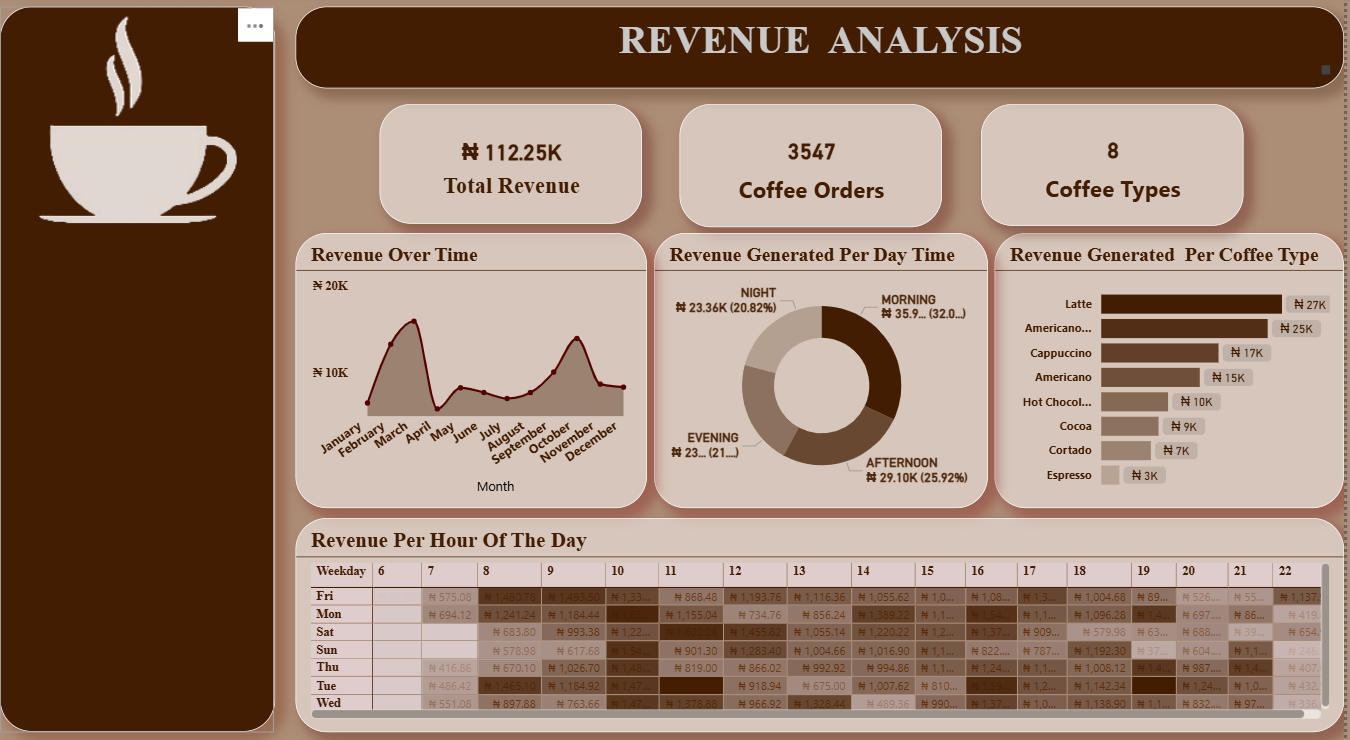

What the dashboard file says about the page in this screenshot:
{"tool":"powerbi","page":{"name":"Revenue Analysis","canvas":[1280,720],"ordinal":0},"visuals":[{"type":"textbox","box":[0,13.3,261.7,690.8],"z":0},{"type":"card","fields":{"Values":["Coffe_sales project.Total Revenue"]},"box":[361.1,106,250.1,114.3],"z":1000},{"type":"card","fields":{"Values":["CountNonNull(Coffe_sales project.coffee_name)"]},"box":[647.7,106,250.1,117.6],"z":2000},{"type":"clusteredBarChart","title":"Revenue Generated  Per Coffee Type","fields":{"Y":["Sum(Coffe_sales project.money)"],"Category":["Coffe_sales project.coffee_name"]},"box":[947.5,228.6,333,261.7],"z":3000},{"type":"donutChart","title":"Revenue Generated Per Day Time","fields":{"Category":["Coffe_sales project.Time of the Day"],"Y":["Sum(Coffe_sales project.money)"]},"box":[622.8,228.6,318,261.7],"z":4000},{"type":"areaChart","title":"Revenue Over Time","fields":{"Category":["Coffe_sales project.Date.Variation.Date Hierarchy.Year","Coffe_sales project.Date.Variation.Date Hierarchy.Month"],"Y":["Coffe_sales project.Total Revenue"]},"box":[281.6,228.6,334.6,261.7],"z":5000},{"type":"card","fields":{"Values":["Count(Coffe_sales project.coffee_name)"]},"box":[934.3,106,250.1,116],"z":6000},{"type":"pivotTable","title":"Revenue Per Hour Of The Day","fields":{"Rows":["Coffe_sales project.Weekday"],"Columns":["Coffe_sales project.hour_of_day"],"Values":["Sum(Coffe_sales project.money)"]},"box":[281.6,500.3,998.9,203.7],"z":7000},{"type":"textbox","title":"REVENUE  ANALYSIS","box":[281.6,13.3,998.9,77.9],"z":8000},{"type":"image","box":[6.6,16.6,248.5,207.1],"z":9000}]}

Visuals, with their boxes on the page's 1280x720 design canvas (x1, y1, x2, y2). These are canvas units, not pixel positions in the 1350x740 screenshot, which may show the page scaled, cropped or inside an application window:
textbox: 0:13:262:704
card - Coffe_sales project.Total Revenue: 361:106:611:220
card - CountNonNull(Coffe_sales project.coffee_name): 648:106:898:224
"Revenue Generated  Per Coffee Type" clusteredBarChart: 948:229:1280:490
"Revenue Generated Per Day Time" donutChart: 623:229:941:490
"Revenue Over Time" areaChart: 282:229:616:490
card - Count(Coffe_sales project.coffee_name): 934:106:1184:222
"Revenue Per Hour Of The Day" pivotTable: 282:500:1280:704
"REVENUE  ANALYSIS" textbox: 282:13:1280:91
image: 7:17:255:224
